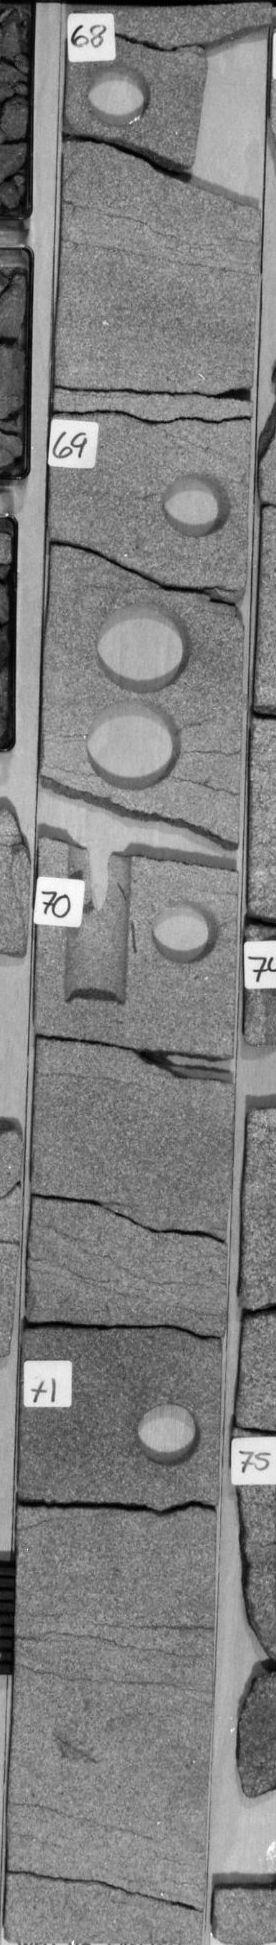hplug: (155, 465, 237, 545), (129, 1397, 211, 1475), (143, 897, 227, 971), (77, 59, 155, 133)
scal: (89, 591, 201, 697), (81, 699, 191, 799)
vplug: (181, 17, 267, 209), (57, 839, 139, 1017)
